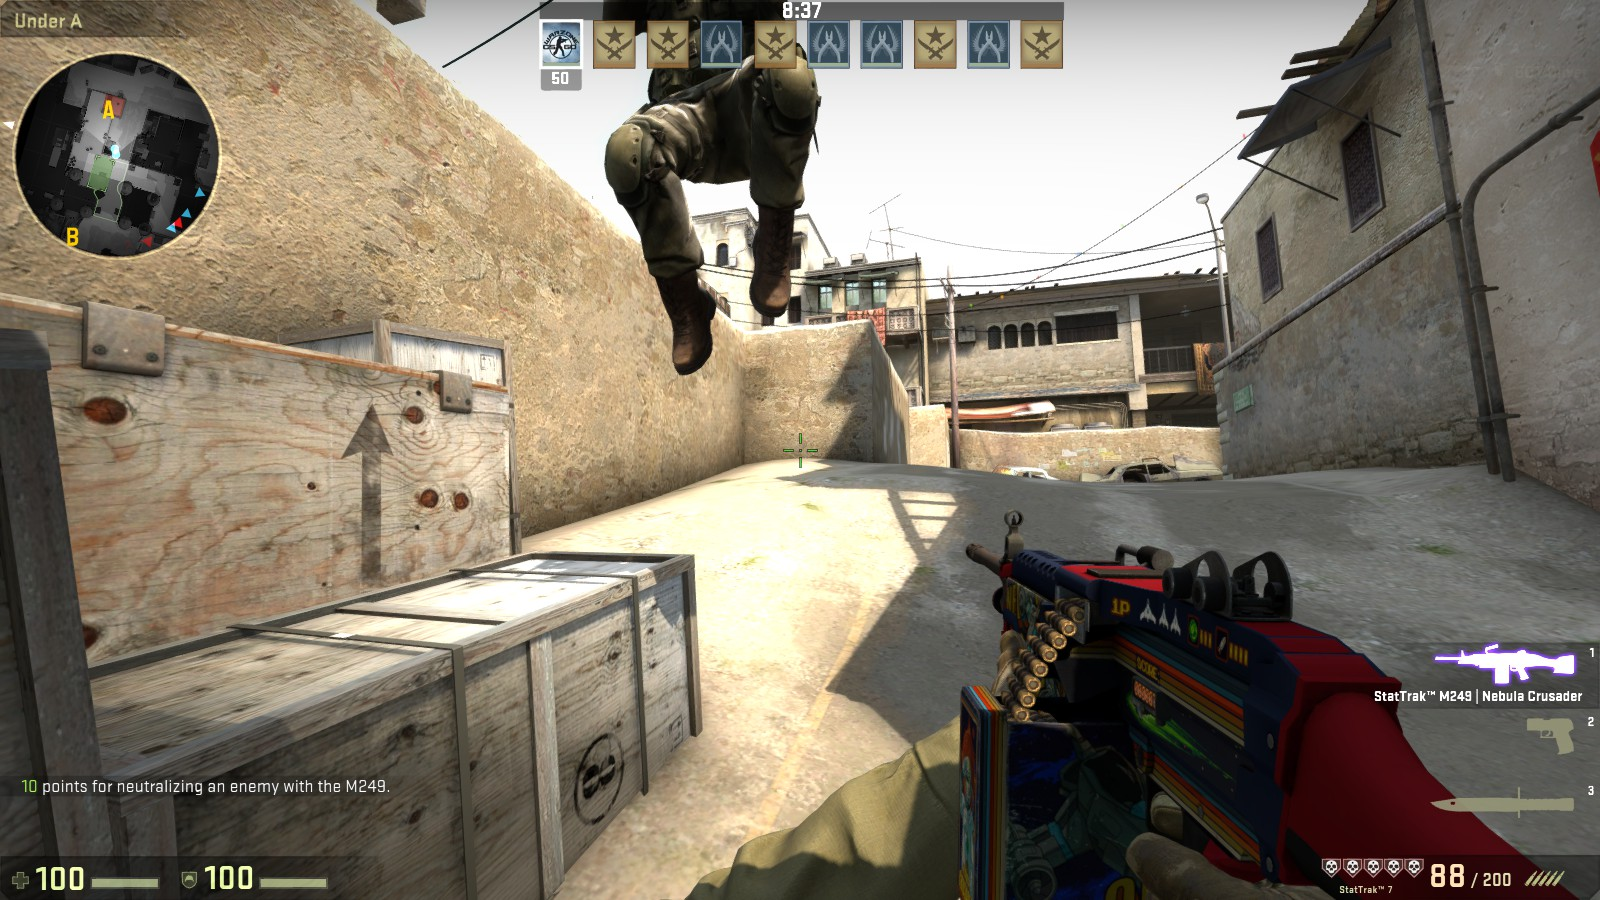c: (602, 1, 818, 370)
